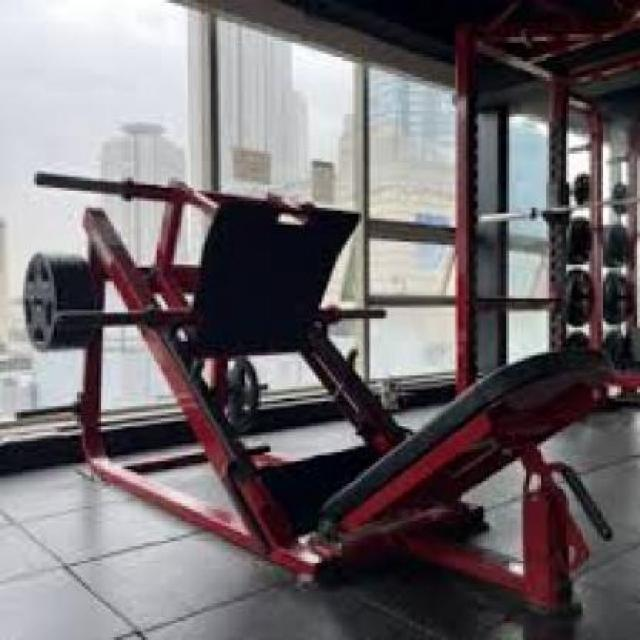leg press: (7, 132, 640, 623)
